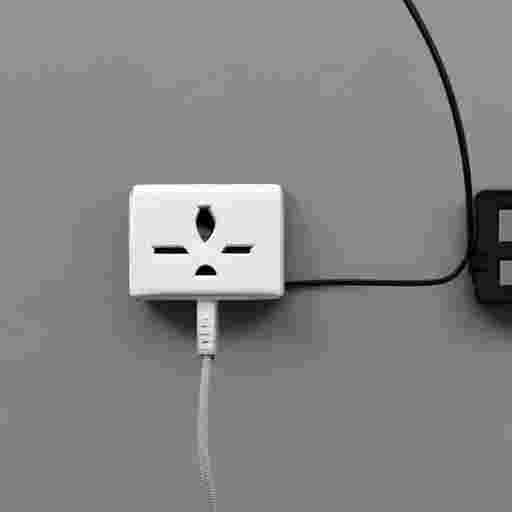power outlet: (129, 184, 284, 299), (471, 190, 511, 302)
